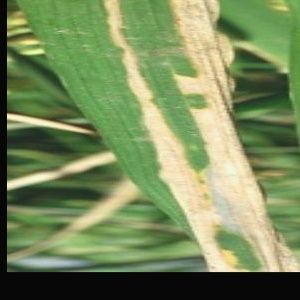Leaf_Blast: (69, 0, 236, 230)
